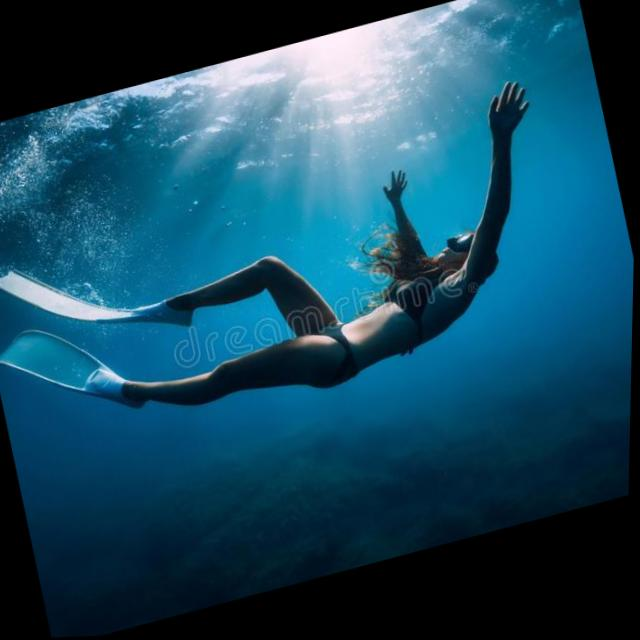human: (0, 97, 592, 480)
